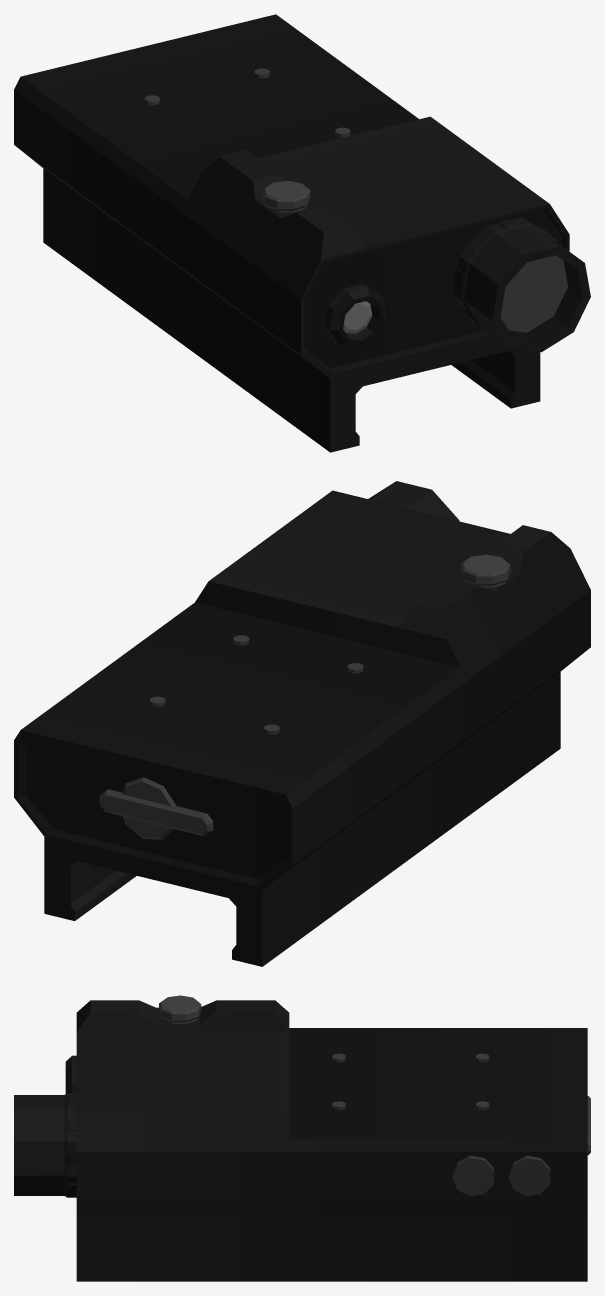
File: Laser Sight.fbx
3 views of the same model, one above another, from view 1: azimuth 30°, elevation 25°; view 2: azimuth 150°, elevation 25°; view 3: azimuth 270°, elevation 25° (orthographic). The views are drawn at different scales.
Visible parts, largest first — view 1: Laser Sight; view 2: Laser Sight; view 3: Laser Sight.
Boxes of the visible parts, x1,y1,x2,y2 form: Laser Sight: (14,14,590,452); Laser Sight: (14,481,590,966); Laser Sight: (14,995,590,1281).
Bounding box in the file's own units: 5.74 × 4.33 × 11.75.
